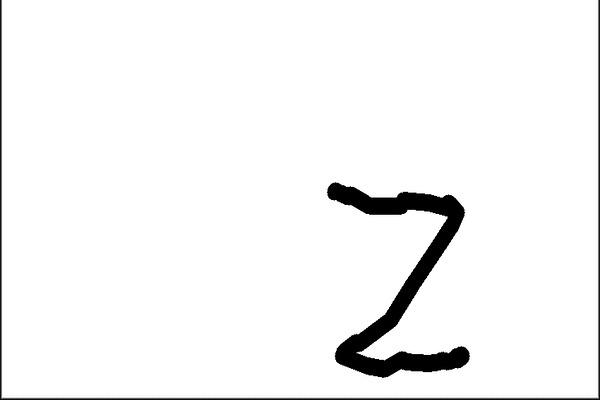Z: (316, 177, 482, 379)
